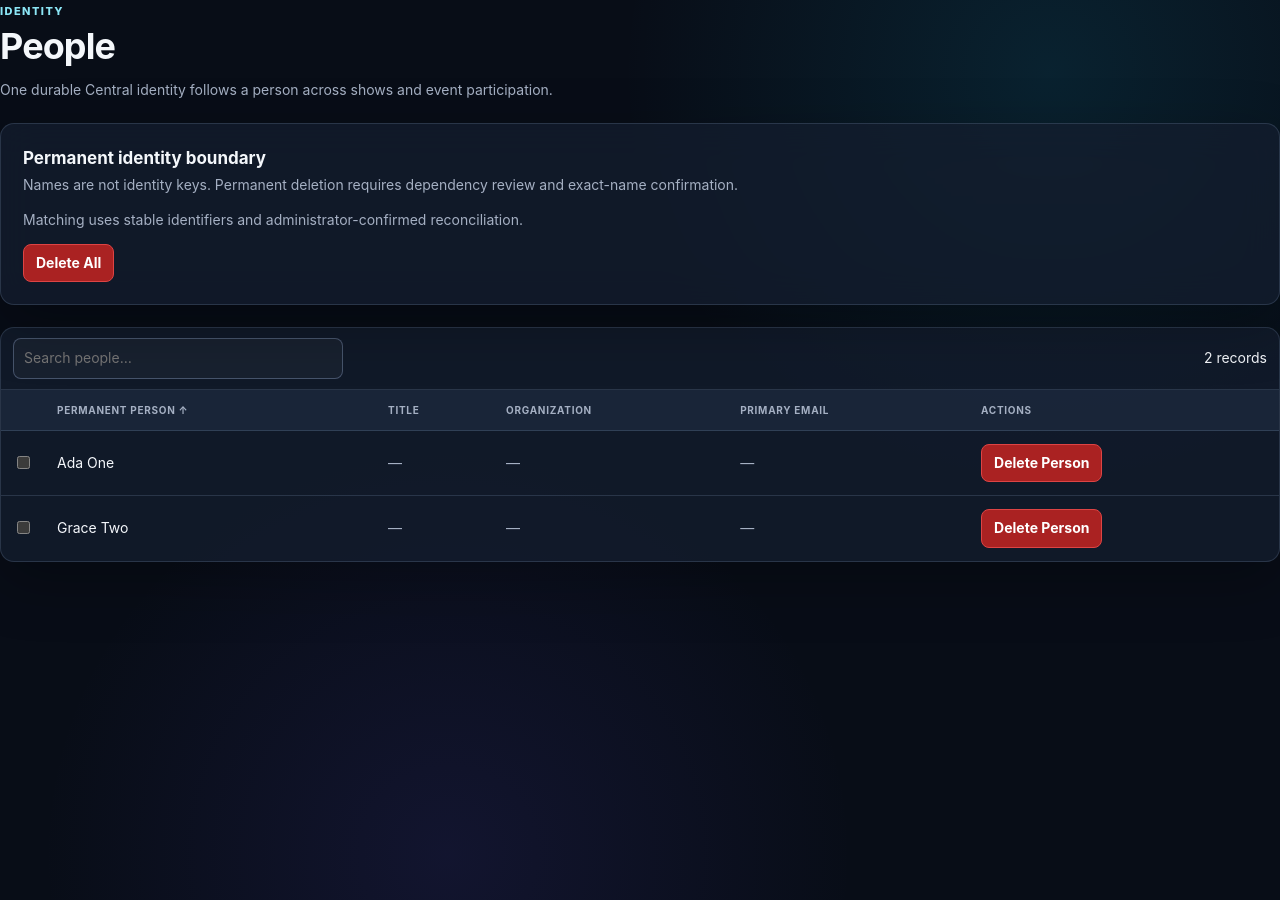
it: requires the exact phrase and refreshes after successful Delete All
The width and height of the screenshot is (1280, 900).
Click the button "Delete All" at coordinates (69, 263), box [23,244,114,282]
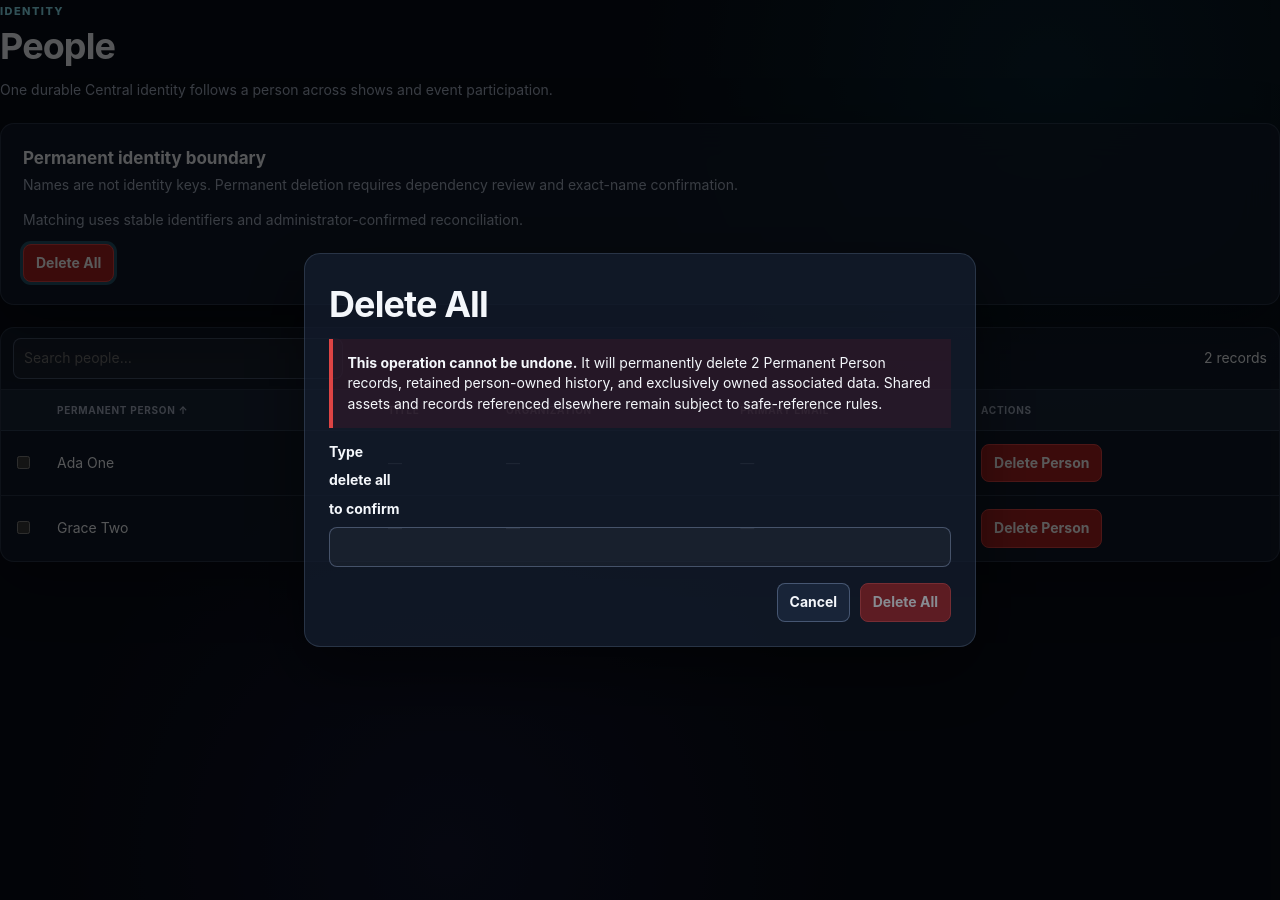
Expected: the text "permanently delete 2 Permanent Person records" is shown, [329,338,951,428]
Type "Delete All" into the field labelled "Type delete all to confirm" at coordinates (640, 547), box [329,527,951,567]
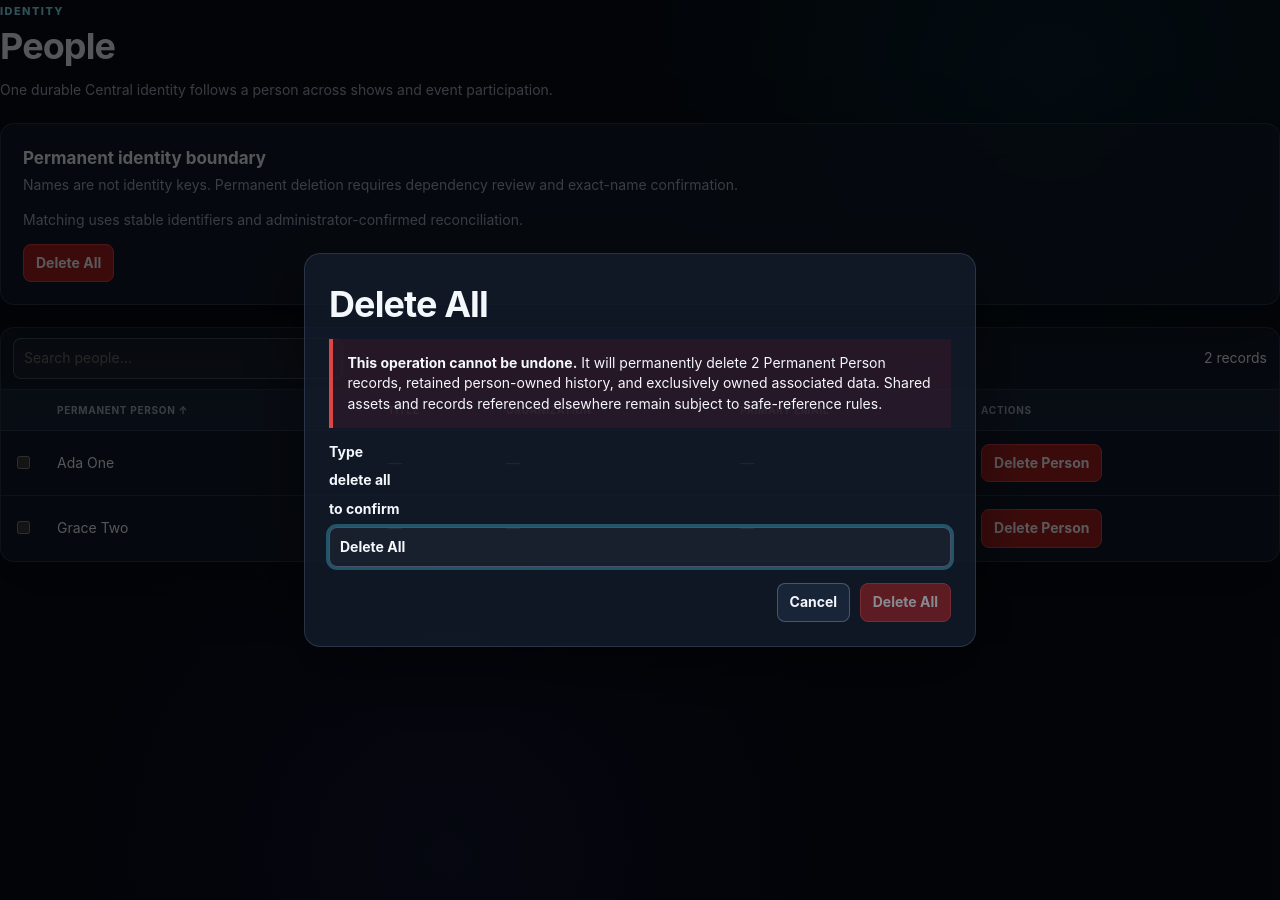
Expected: the button "Delete All" is disabled, [860,583,951,622]
Replace the text in the field labelled "Type delete all to confirm" with "delete all" at coordinates (640, 547), box [329,527,951,567]
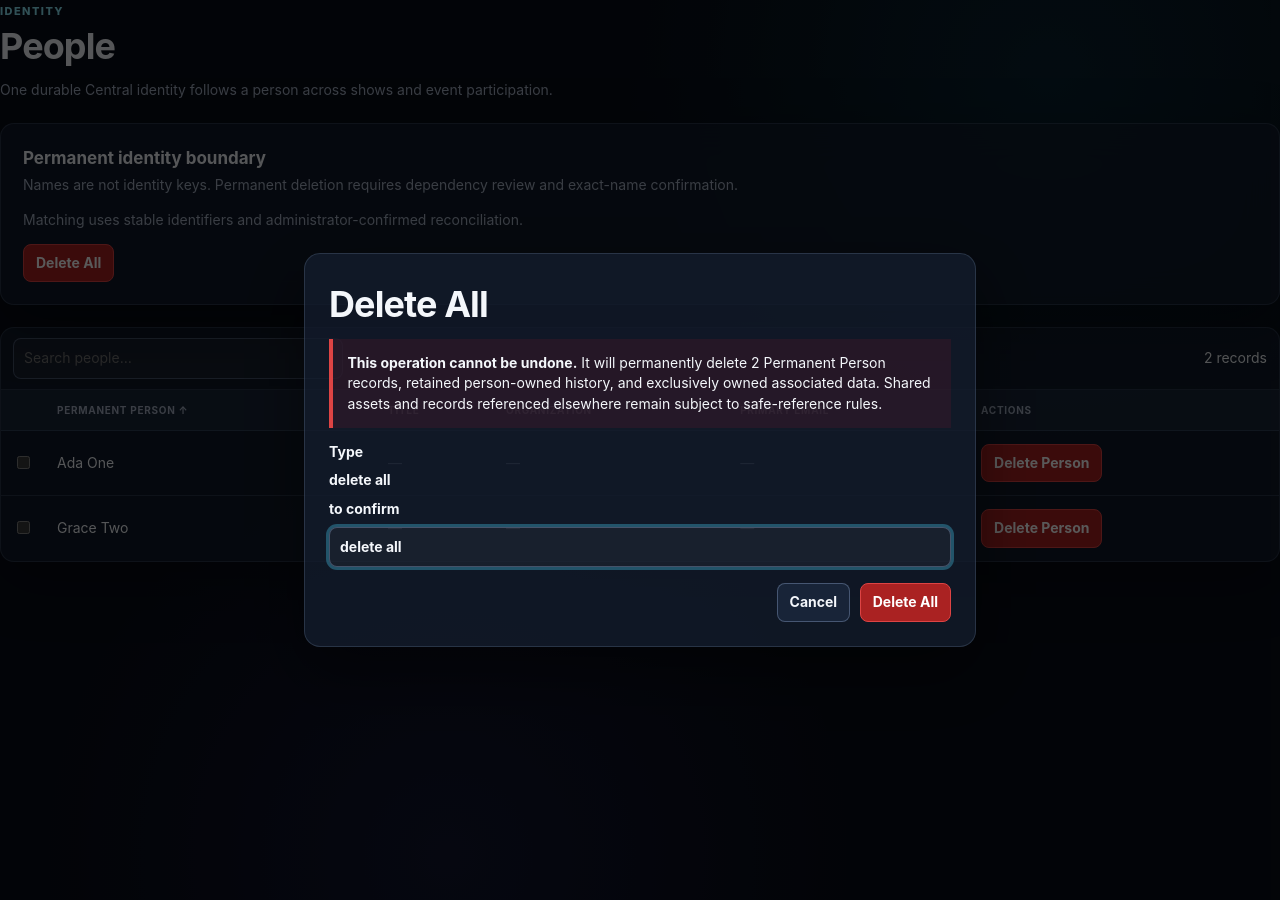
Expected: the button "Delete All" is enabled
Click the button "Delete All" at coordinates (905, 603), box [860,583,951,622]
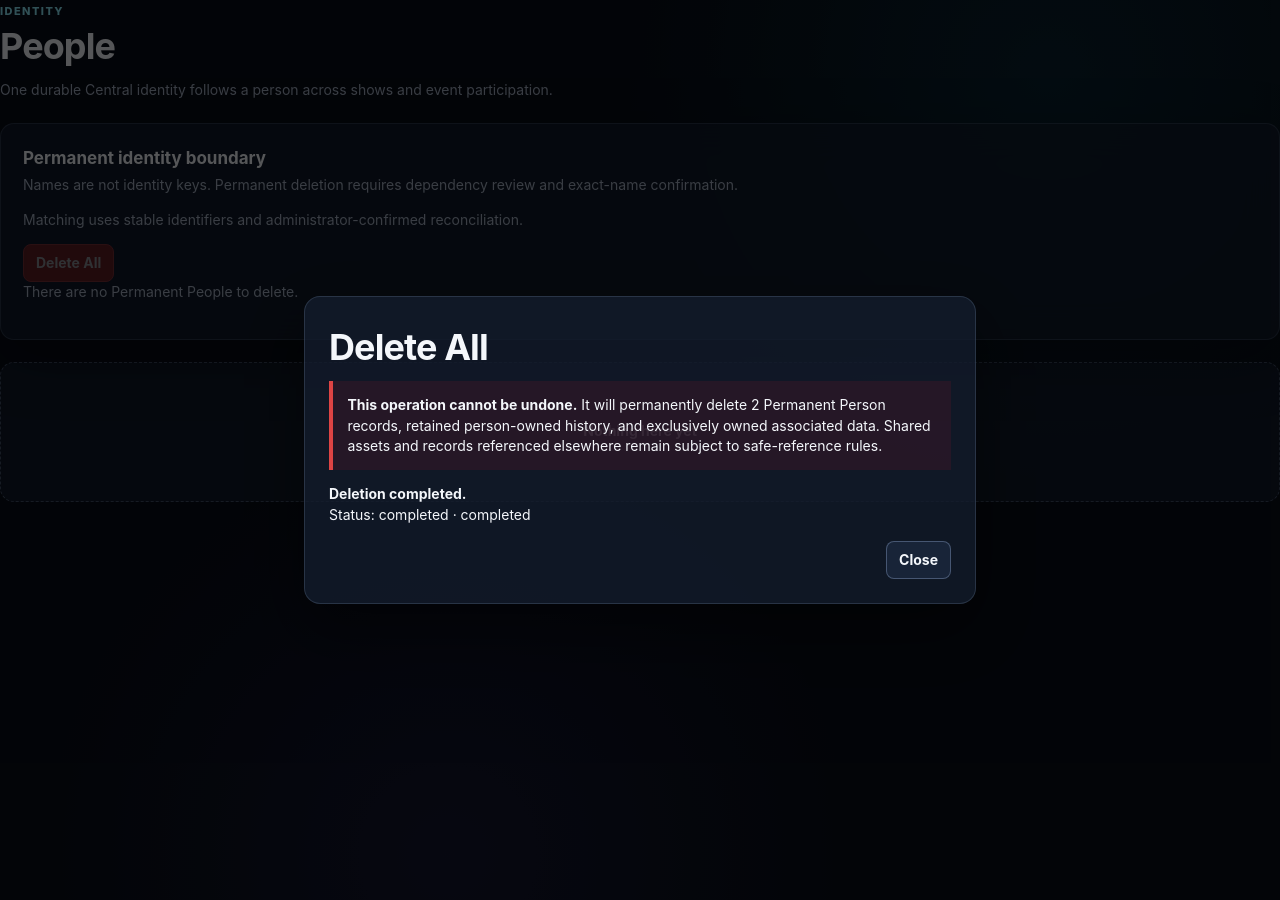
Expected: the text "Deletion completed." is shown, [329,486,466,502]
Expected: the text "There are no Permanent People to delete." is shown, [23,283,298,300]
